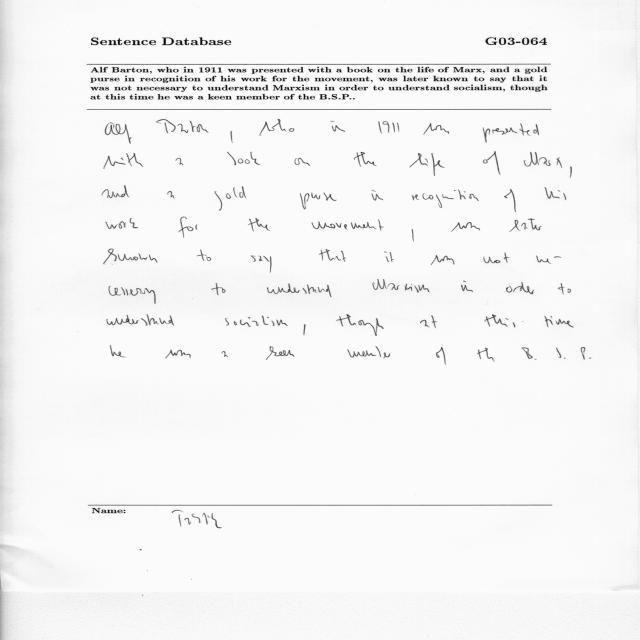word: (411, 190, 479, 208), (483, 123, 539, 143), (336, 314, 384, 336), (521, 347, 591, 360), (267, 284, 331, 298), (312, 219, 384, 231), (104, 249, 158, 265), (109, 286, 156, 304), (409, 153, 445, 176), (372, 279, 430, 293), (215, 186, 247, 211), (156, 119, 209, 133), (107, 315, 174, 326), (225, 316, 288, 327), (300, 192, 337, 209), (104, 153, 143, 169), (524, 152, 562, 168), (260, 119, 295, 136), (105, 122, 132, 144), (347, 346, 391, 359), (485, 315, 523, 328), (509, 218, 542, 232), (227, 152, 260, 165), (483, 152, 501, 175), (266, 346, 295, 360), (179, 217, 198, 238), (106, 218, 139, 229), (251, 256, 272, 273), (319, 249, 346, 262), (354, 152, 377, 167), (506, 282, 534, 294), (544, 316, 574, 327), (103, 186, 130, 198), (423, 123, 449, 135), (483, 253, 510, 264), (451, 222, 480, 232), (248, 218, 270, 231), (504, 189, 516, 212), (378, 121, 399, 134), (545, 187, 566, 200), (477, 348, 495, 362), (431, 255, 454, 265), (420, 316, 437, 329), (165, 350, 191, 358), (536, 256, 561, 264), (110, 346, 126, 358), (197, 249, 212, 261), (436, 347, 446, 365), (212, 283, 226, 295), (331, 121, 345, 132), (558, 283, 571, 294), (461, 281, 473, 292), (295, 158, 311, 166), (372, 190, 383, 201), (384, 252, 394, 262), (175, 158, 184, 165), (167, 191, 175, 198), (221, 351, 228, 357), (230, 131, 233, 143), (411, 229, 414, 241), (570, 166, 572, 178), (304, 324, 306, 335)
